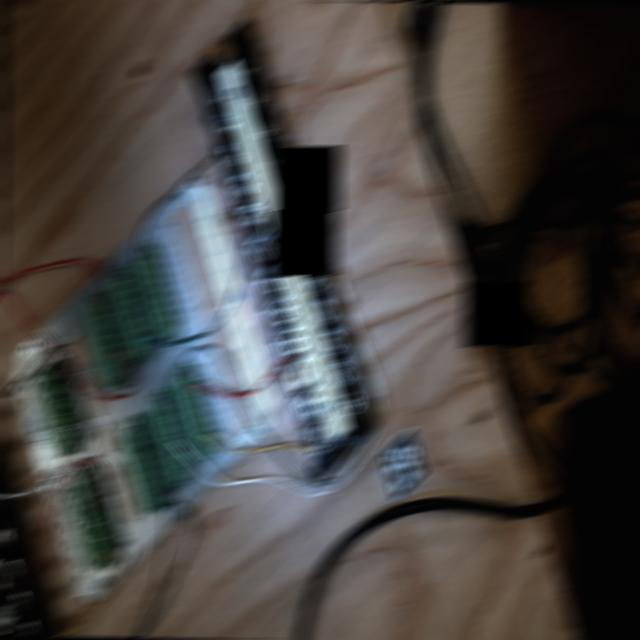Phillips_Block: (178, 16, 386, 481)
Terminal_1: (61, 469, 119, 570), (29, 361, 83, 459)
Terminal_2: (113, 419, 170, 514), (139, 394, 196, 487), (100, 267, 156, 361), (76, 293, 132, 387), (166, 367, 221, 460)
